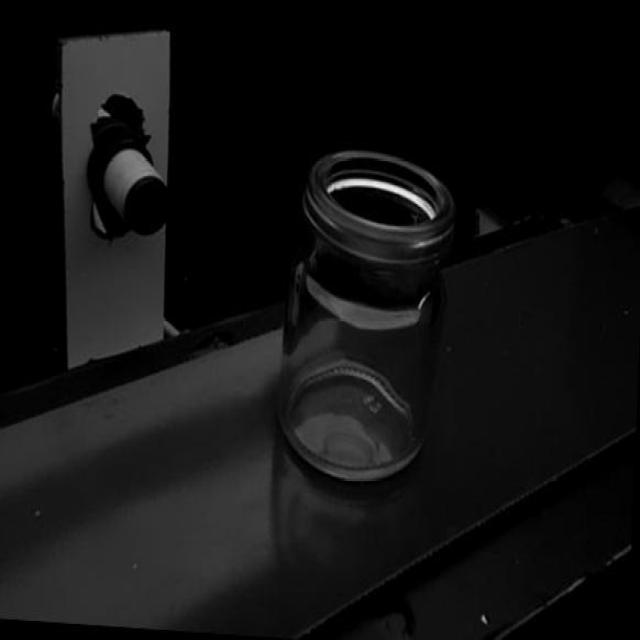defect: (417, 288, 433, 312)
glass: (277, 137, 456, 490)
